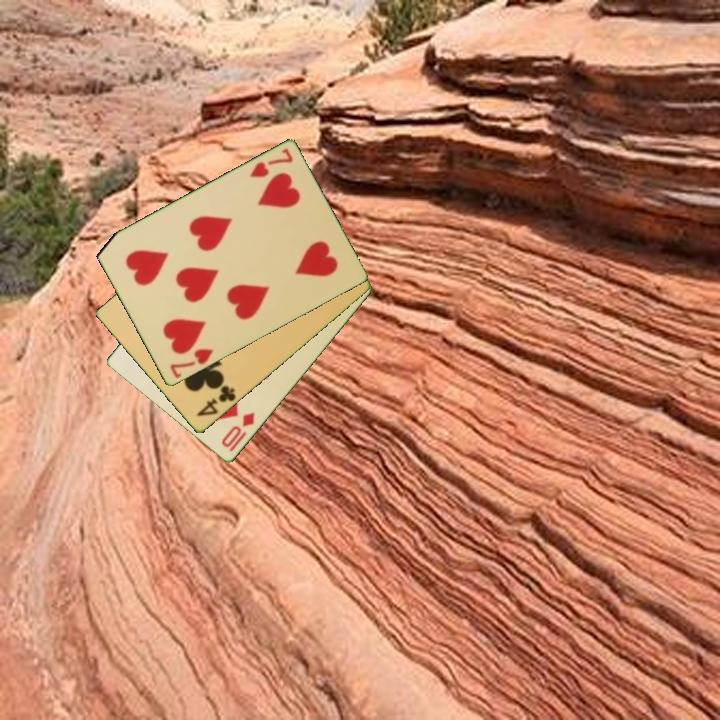10d: (218, 409, 258, 451)
4c: (193, 382, 239, 420)
7h: (166, 345, 216, 381), (246, 145, 296, 181)
